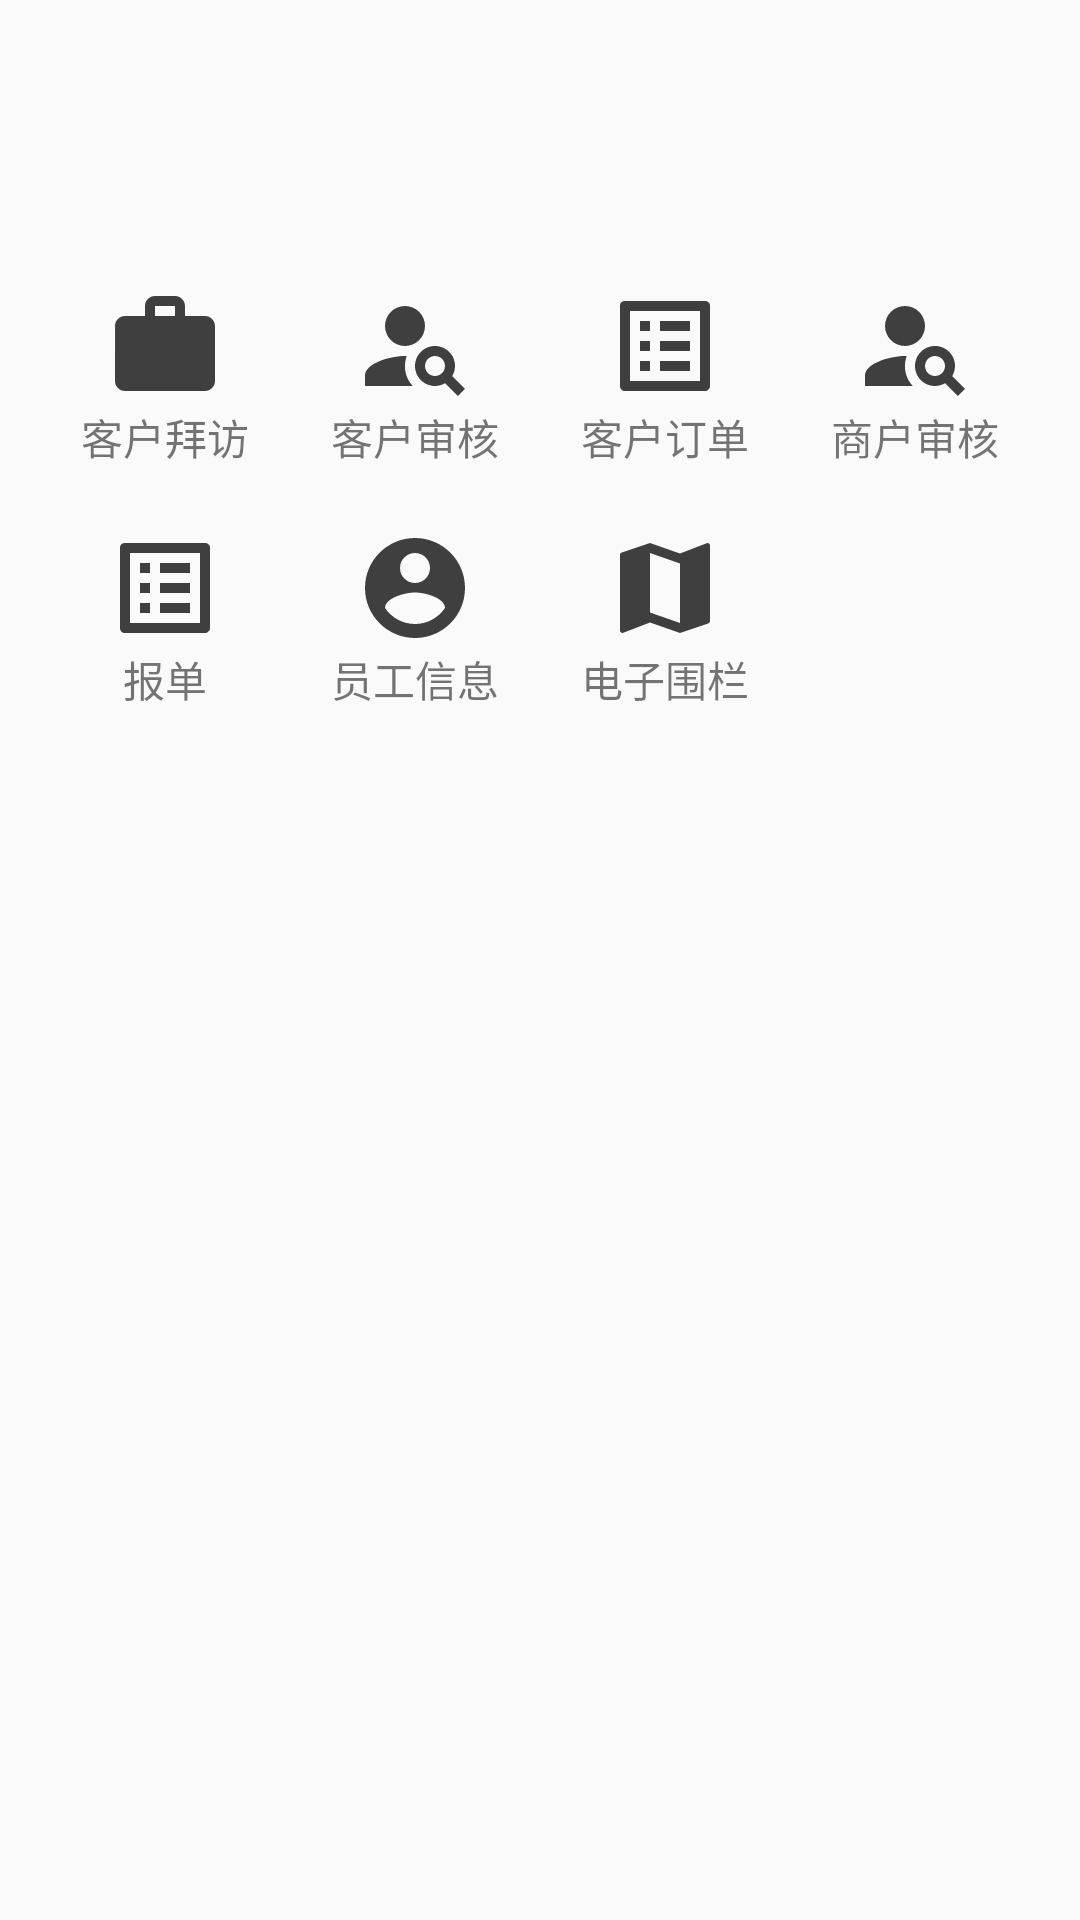

Screen size 1080*1920. Icon name, then its box in pixels as (x1, y1, x2, y2):
list: (620, 301, 710, 391), (120, 543, 210, 633)
map: (620, 543, 710, 633)
stuff circle: (365, 538, 465, 638)
